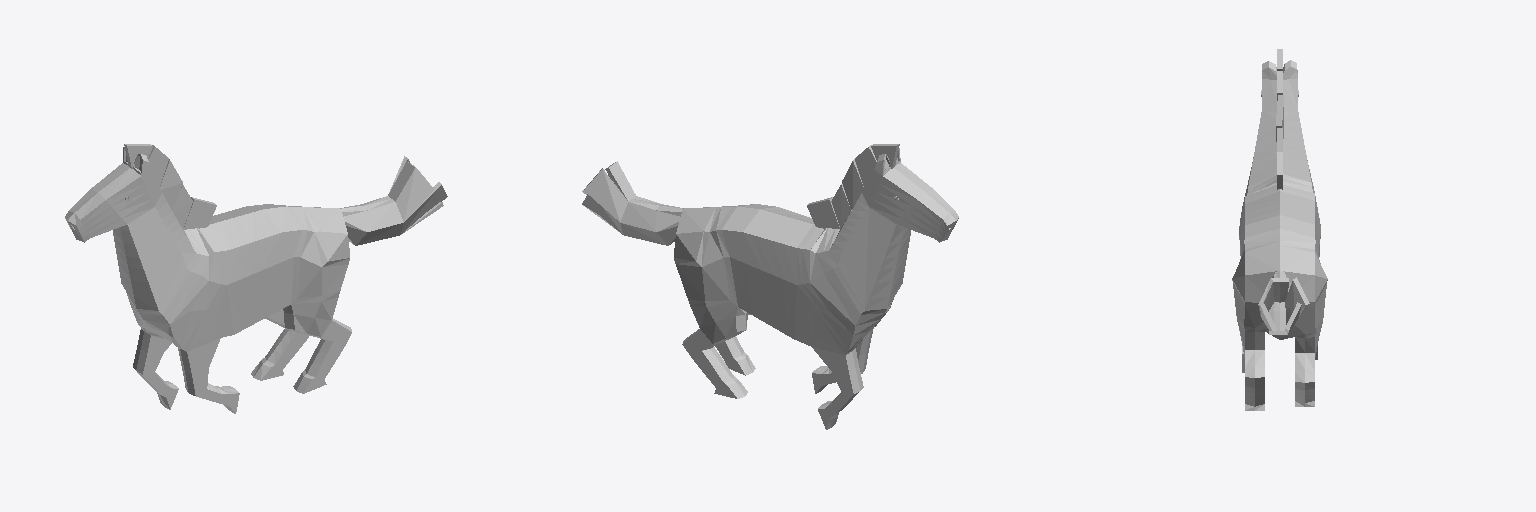
The model's file is Zebra.obj.
The picture shows the model from 3 angles: view 1: azimuth 30°, elevation 25°; view 2: azimuth 150°, elevation 25°; view 3: azimuth 270°, elevation 25°; orthographic projection.
Parts seen in each view (by area): view 1: Cube.028_Cube.030; view 2: Cube.028_Cube.030; view 3: Cube.028_Cube.030.
Part boxes in pixels (x1,y1,x2,y2): Cube.028_Cube.030: (65,144,447,413); Cube.028_Cube.030: (582,144,958,429); Cube.028_Cube.030: (1232,49,1327,410).
Size of the model in its own units: 271 by 196 by 59.57.